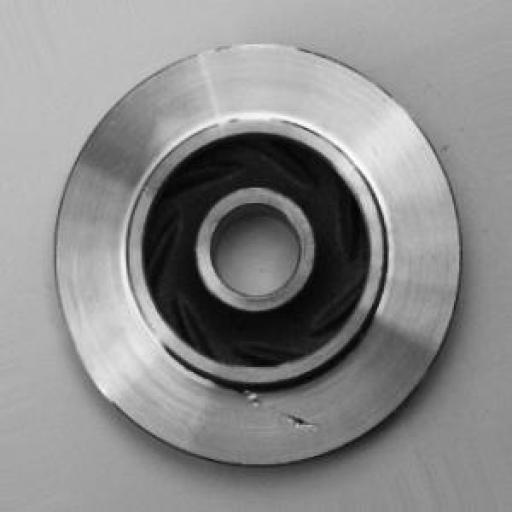defect: (176, 353, 352, 453)
